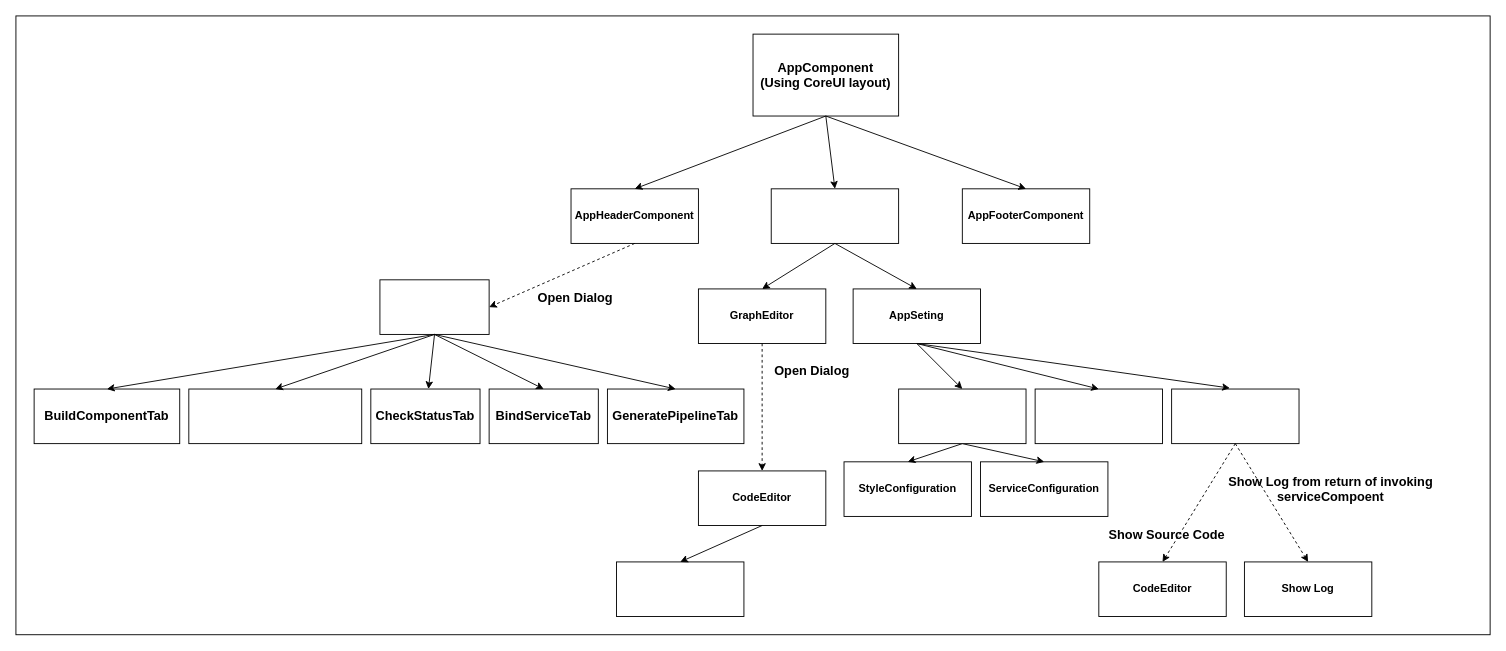
This 1506x651 diagram has some shape labels left out. The centre of each missing label's shape, as x and y in pixels:
"AppBodyComponent" goes at point 834,215.
"AppWizard" goes at point 434,306.
"CompositeComponentTab" goes at point 275,416.
"ConfigurationTab" goes at point 962,416.
"EndPointTestingTab" goes at point 1235,416.
"NavigationEditorTab" goes at point 1098,416.
"XTerminal" goes at point 680,589.
